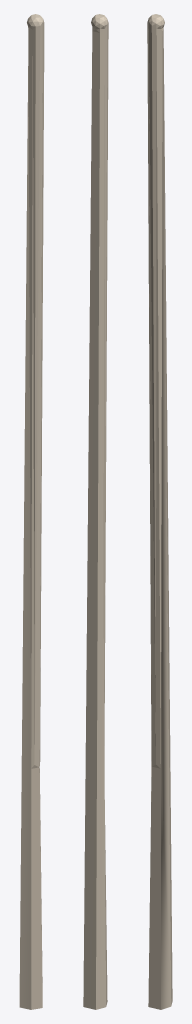
File: Dungeon.obj
3 renders of one model, left to right at view 1: azimuth 90°, elevation 25°; view 2: azimuth 150°, elevation 25°; view 3: azimuth 330°, elevation 25°, orthographic.
Visible parts, largest first — view 1: Dungeon; view 2: Dungeon; view 3: Dungeon.
Part boxes in pixels (<box>): Dungeon: <box>19,14,44,1009</box>; Dungeon: <box>83,14,108,1009</box>; Dungeon: <box>147,14,172,1009</box>.
Size of the model in its own units: 5.6 by 247 by 5.64.
